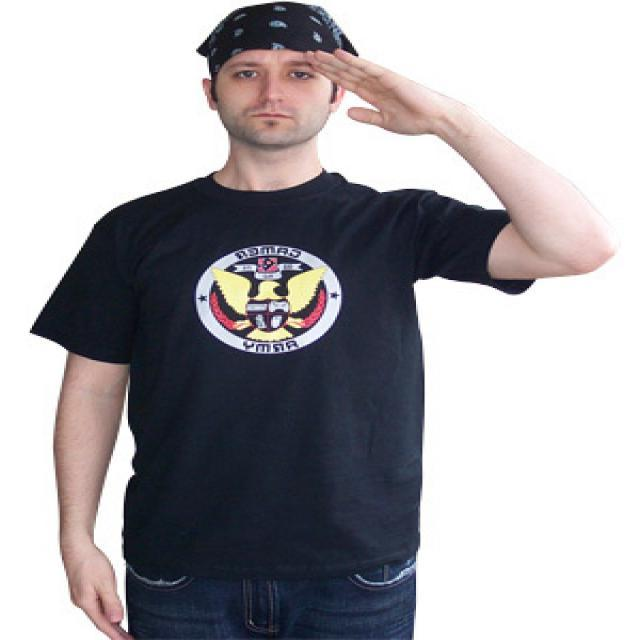short sleeve shirt: (26, 165, 518, 579)
trousers: (122, 551, 421, 640)
